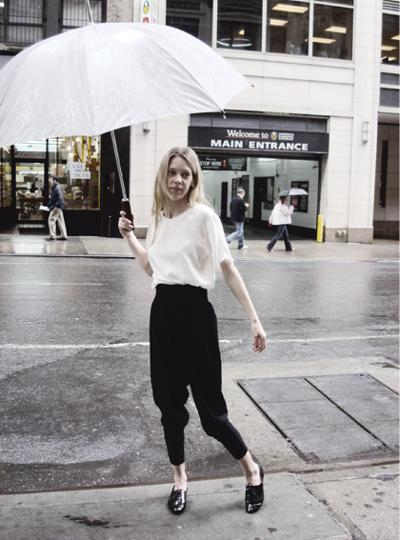person: (118, 144, 268, 516)
